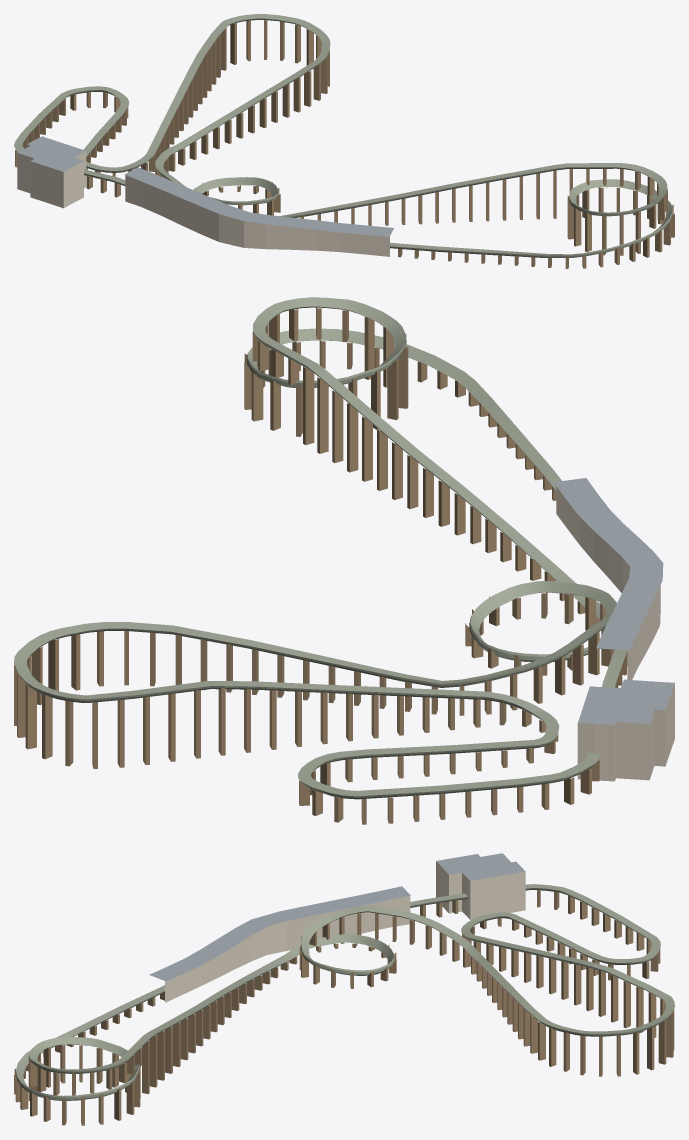
File: carowinds-carolina-goldrusher.glb
3 views of the same model, one above another, from view 1: azimuth 30°, elevation 25°; view 2: azimuth 150°, elevation 25°; view 3: azimuth 270°, elevation 25° (orthographic). The views are drawn at different scales.
Parts seen in each view (by area): view 1: Carolina Goldrusher; view 2: Carolina Goldrusher; view 3: Carolina Goldrusher.
Boxes of the visible parts, x1,y1,x2,y2 form: Carolina Goldrusher: (14,14,674,268); Carolina Goldrusher: (14,297,674,824); Carolina Goldrusher: (14,853,674,1125).
Bounding box in the file's own units: 123 × 14.94 × 146.
